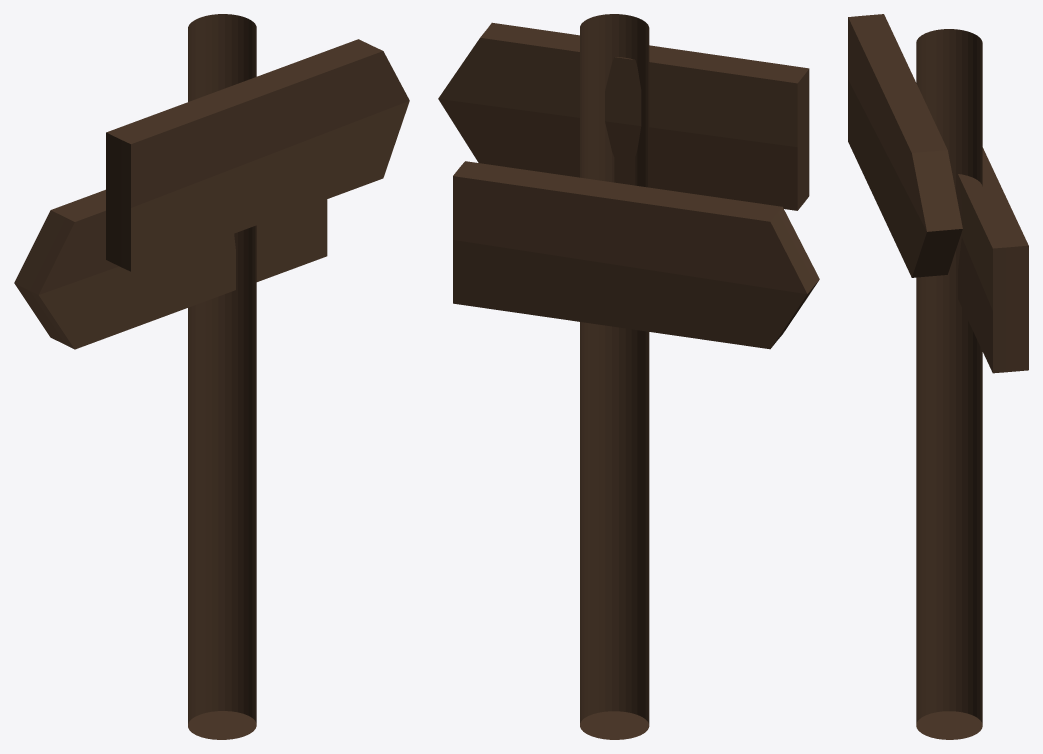
Rendered from Cartello.fbx.
3 renders of one model, left to right at view 1: azimuth 30°, elevation 25°; view 2: azimuth 150°, elevation 25°; view 3: azimuth 270°, elevation 25°, orthographic. The views are drawn at different scales.
Visible parts, largest first — view 1: indicazione; view 2: indicazione; view 3: indicazione.
Boxes of the visible parts, x1,y1,x2,y2 form: indicazione: [14, 14, 409, 739]; indicazione: [438, 14, 819, 739]; indicazione: [848, 14, 1028, 739].
Bounding box in the file's own units: 211 × 374 × 89.65.
